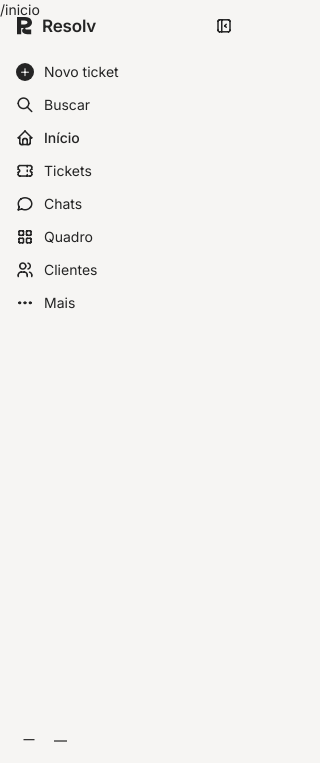
Test: Sidebar — navegação principal › os destinos do dia a dia ficam na coluna: "Clientes" leva pra /clientes
What coordinates should you click on to do the following:
click the button "Clientes"
I would click on:
 (124, 270)
Its box is [8,254,240,286].
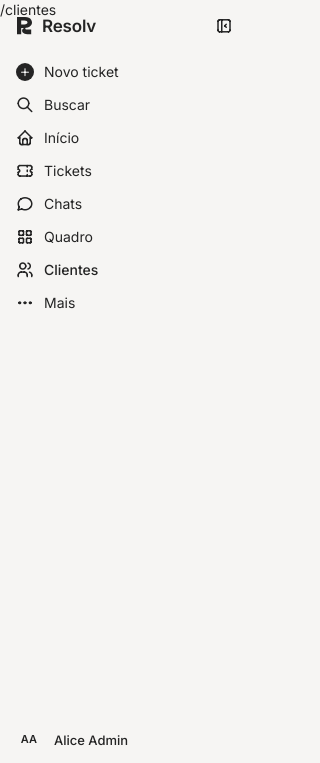
Now the text with test id "rota" reads "/clientes", box [0,1,56,18]
